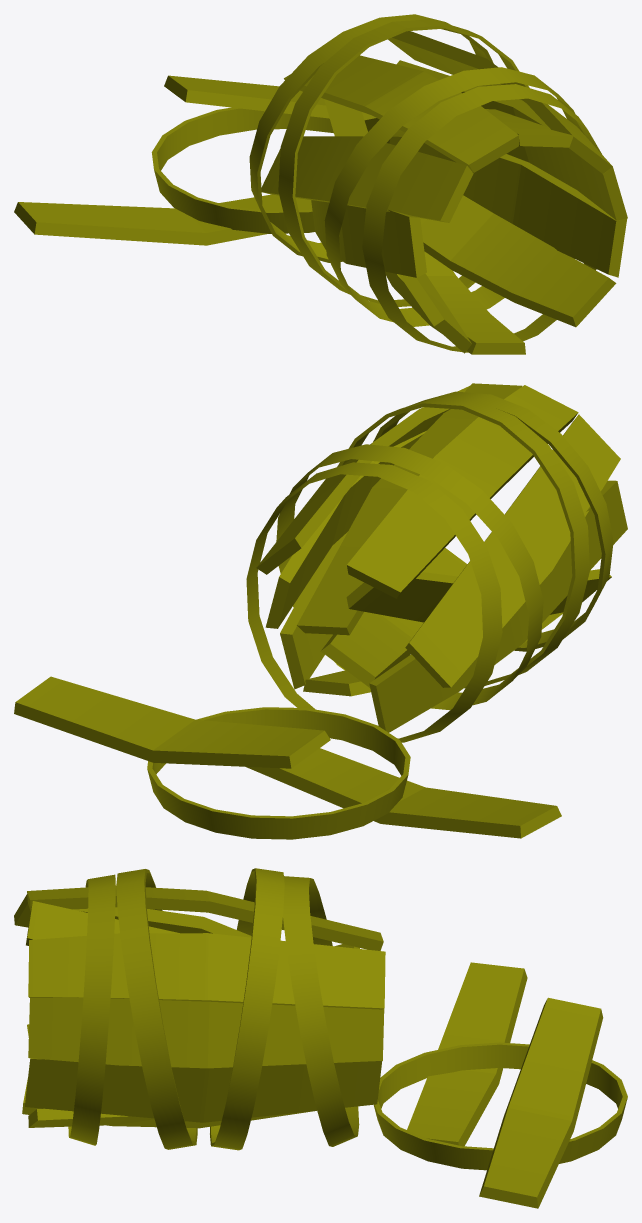
File: burrel1.fbx
3 renders of one model, top to bottom at view 1: azimuth 30°, elevation 25°; view 2: azimuth 150°, elevation 25°; view 3: azimuth 270°, elevation 25°, orthographic. The views are drawn at different scales.
Visible parts, largest first — view 1: WoodenBarrel_Broken_v1_LOD0; view 2: WoodenBarrel_Broken_v1_LOD0; view 3: WoodenBarrel_Broken_v1_LOD0.
Part boxes in pixels (left/top/right/bottom): WoodenBarrel_Broken_v1_LOD0: left=14, top=14, right=627, bottom=354; WoodenBarrel_Broken_v1_LOD0: left=14, top=383, right=627, bottom=839; WoodenBarrel_Broken_v1_LOD0: left=14, top=868, right=627, bottom=1208.
Bounding box in the file's own units: 19.23 × 9.56 × 20.64.
